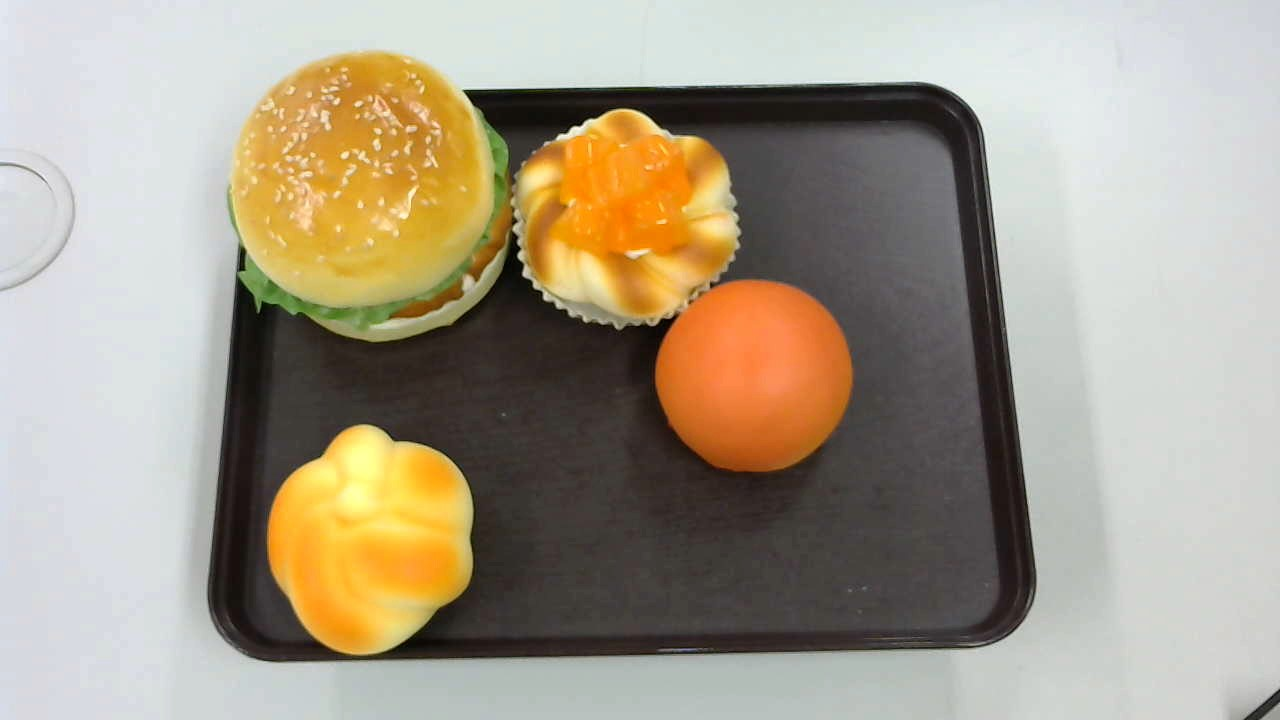bun: (653, 279, 854, 473)
hamburger: (227, 48, 514, 341)
mango tart: (511, 106, 745, 331)
twist bread: (268, 423, 475, 657)
